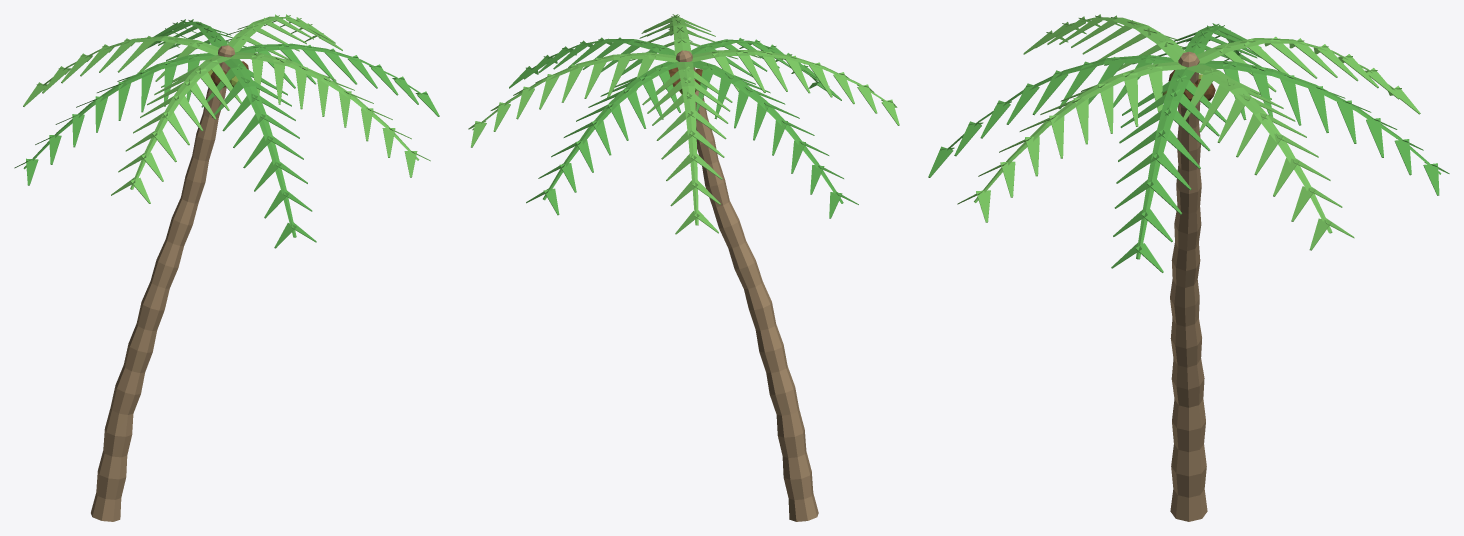
The model's file is TREE_07.obj.
3 renders of one model, left to right at view 1: azimuth 30°, elevation 25°; view 2: azimuth 150°, elevation 25°; view 3: azimuth 270°, elevation 25°, orthographic. The views are drawn at different scales.
Visible parts, largest first — view 1: fronds, trunk; view 2: fronds, trunk; view 3: fronds, trunk.
Part boxes in pixels (x1,y1,x2,y2): fronds: (14, 14, 439, 248); trunk: (91, 45, 234, 521); fronds: (468, 14, 899, 234); trunk: (676, 50, 818, 521); fronds: (928, 14, 1449, 272); trunk: (1170, 51, 1207, 521).
Bounding box in the file's own units: 11.77 × 13.25 × 11.77.
